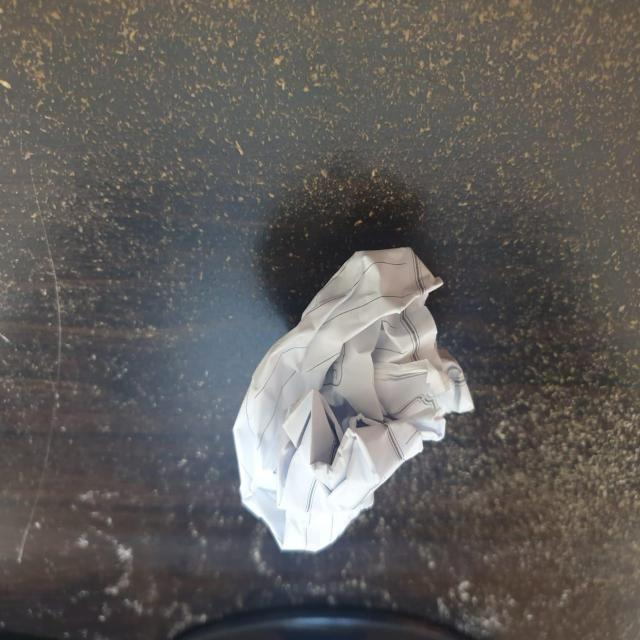kertas: (227, 226, 463, 564)
